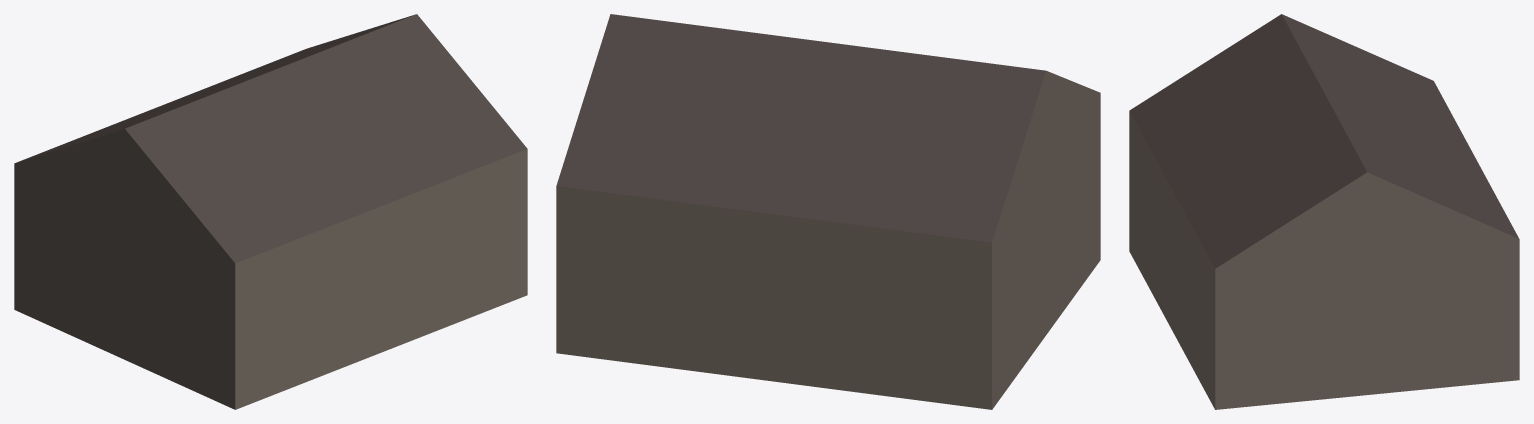
The picture shows the model from 3 angles, left to right: view 1: azimuth 30°, elevation 25°; view 2: azimuth 150°, elevation 25°; view 3: azimuth 270°, elevation 25°; orthographic projection. The views are drawn at different scales.
Visible parts, largest first — view 1: HP-w859488811; view 2: HP-w859488811; view 3: HP-w859488811.
Boxes of the visible parts, left/top/right/bottom form: HP-w859488811: left=14, top=14, right=527, bottom=409; HP-w859488811: left=556, top=14, right=1100, bottom=409; HP-w859488811: left=1129, top=14, right=1519, bottom=409.
Bounding box in the file's own units: 17.15 × 9.48 × 15.03.
